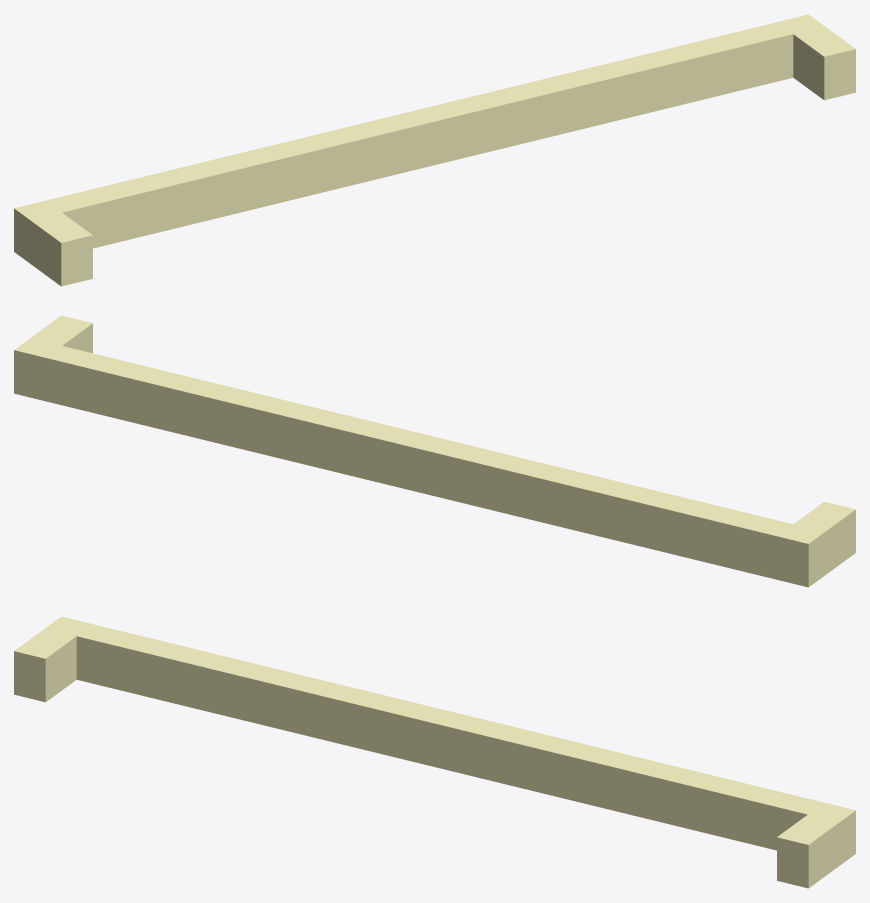
Rendered from Tube Light.fbx.
3 views of the same model, one above another, from view 1: azimuth 30°, elevation 25°; view 2: azimuth 150°, elevation 25°; view 3: azimuth 330°, elevation 25° (orthographic).
Visible parts, largest first — view 1: Cube; view 2: Cube; view 3: Cube.
Part boxes in pixels (box(x1,y1,x2,y2)): Cube: box(14, 14, 855, 286); Cube: box(14, 315, 855, 587); Cube: box(14, 616, 855, 888).
Size of the model in its own units: 1451 by 75.92 by 150.
